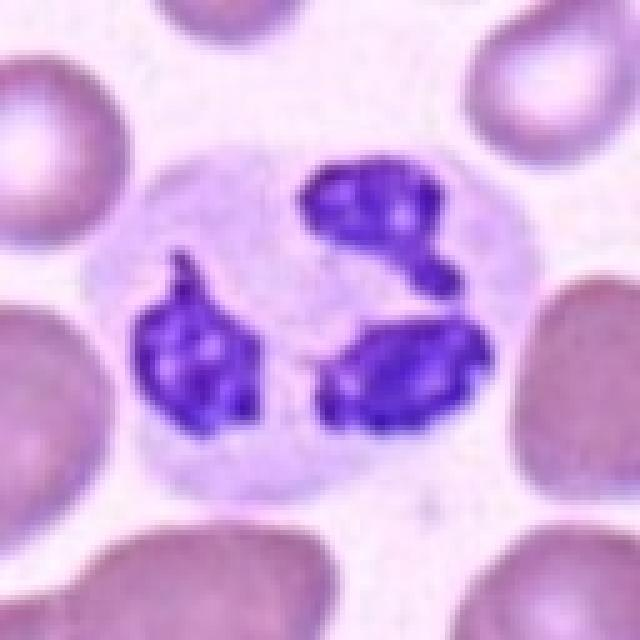neutro: (65, 97, 558, 544)
